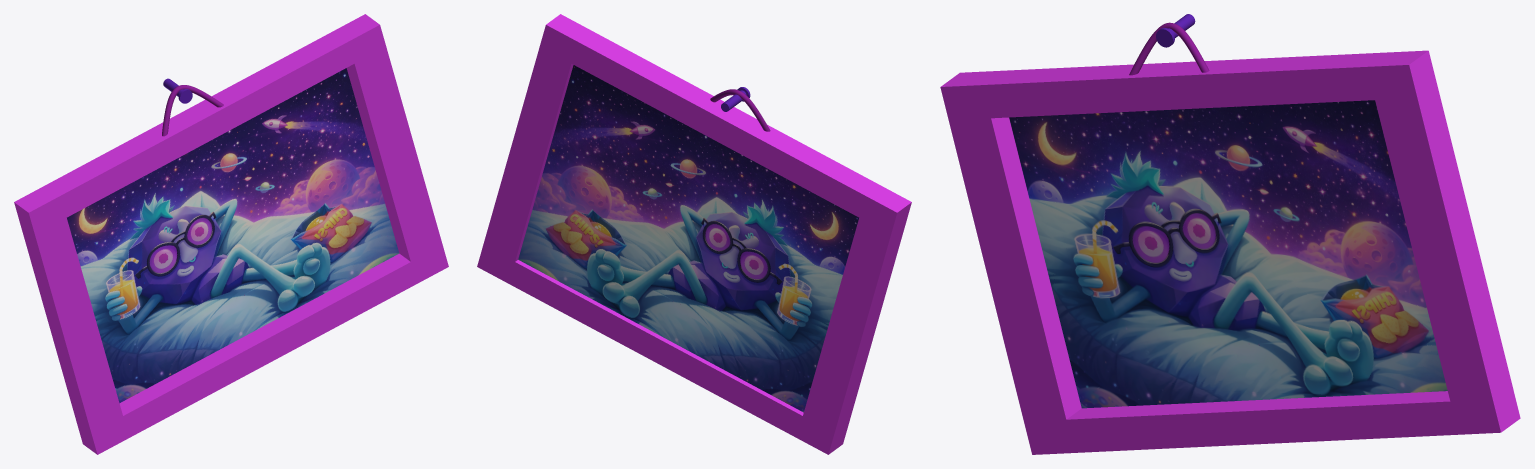
The model's file is cadre photo.glb.
3 views of the same model, side by side, from view 1: azimuth 30°, elevation 25°; view 2: azimuth 150°, elevation 25°; view 3: azimuth 330°, elevation 25° (orthographic). The views are drawn at different scales.
Visible parts, largest first — view 1: Plane.010; view 2: Plane.010; view 3: Plane.010.
Boxes of the visible parts, <box> form: Plane.010: <box>14,14,448,454</box>; Plane.010: <box>477,14,911,454</box>; Plane.010: <box>940,14,1520,454</box>.
Size of the model in its own units: 3.27 by 2.69 by 0.325.
Materials: 5 (1 with a texture image).
